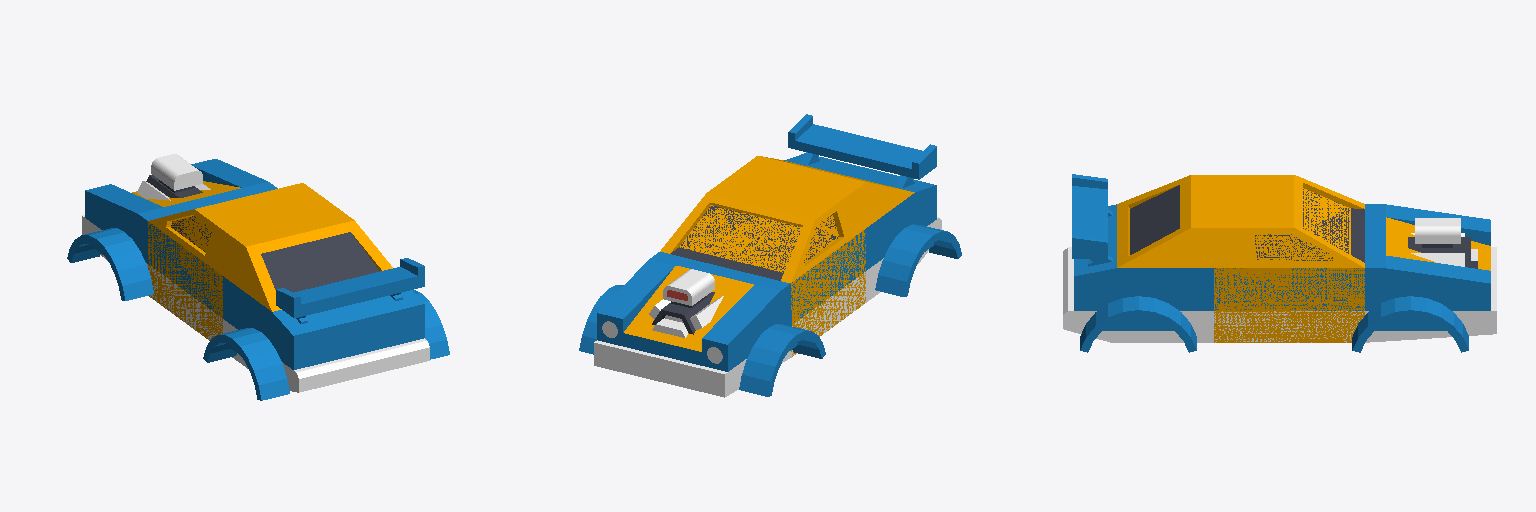
Rendered from AF_Car.obj.
The picture shows the model from 3 angles: view 1: azimuth 30°, elevation 25°; view 2: azimuth 150°, elevation 25°; view 3: azimuth 270°, elevation 25°; orthographic projection.
Bounding box in the file's own units: 1.44 × 0.8 × 2.87.